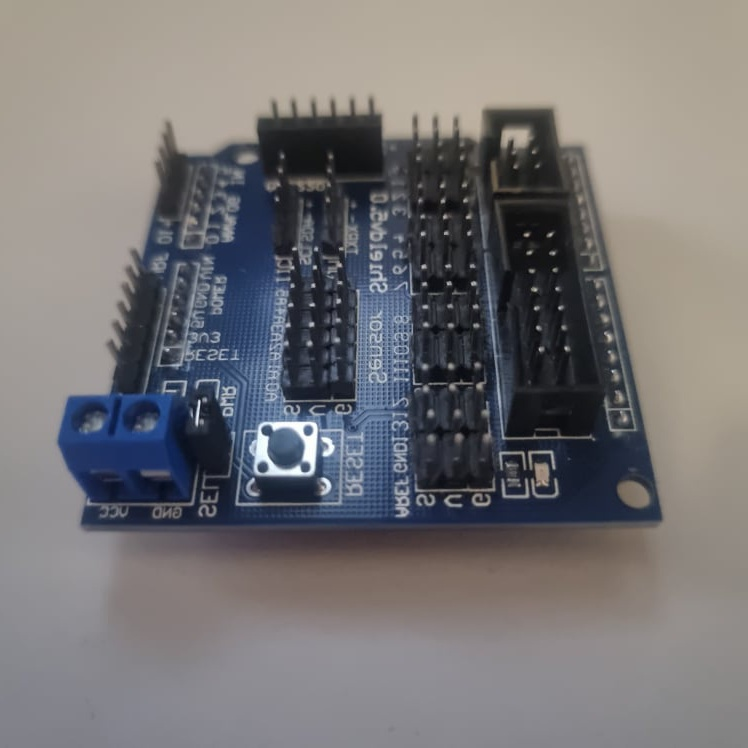5V EXPANSION: (57, 99, 667, 537)
